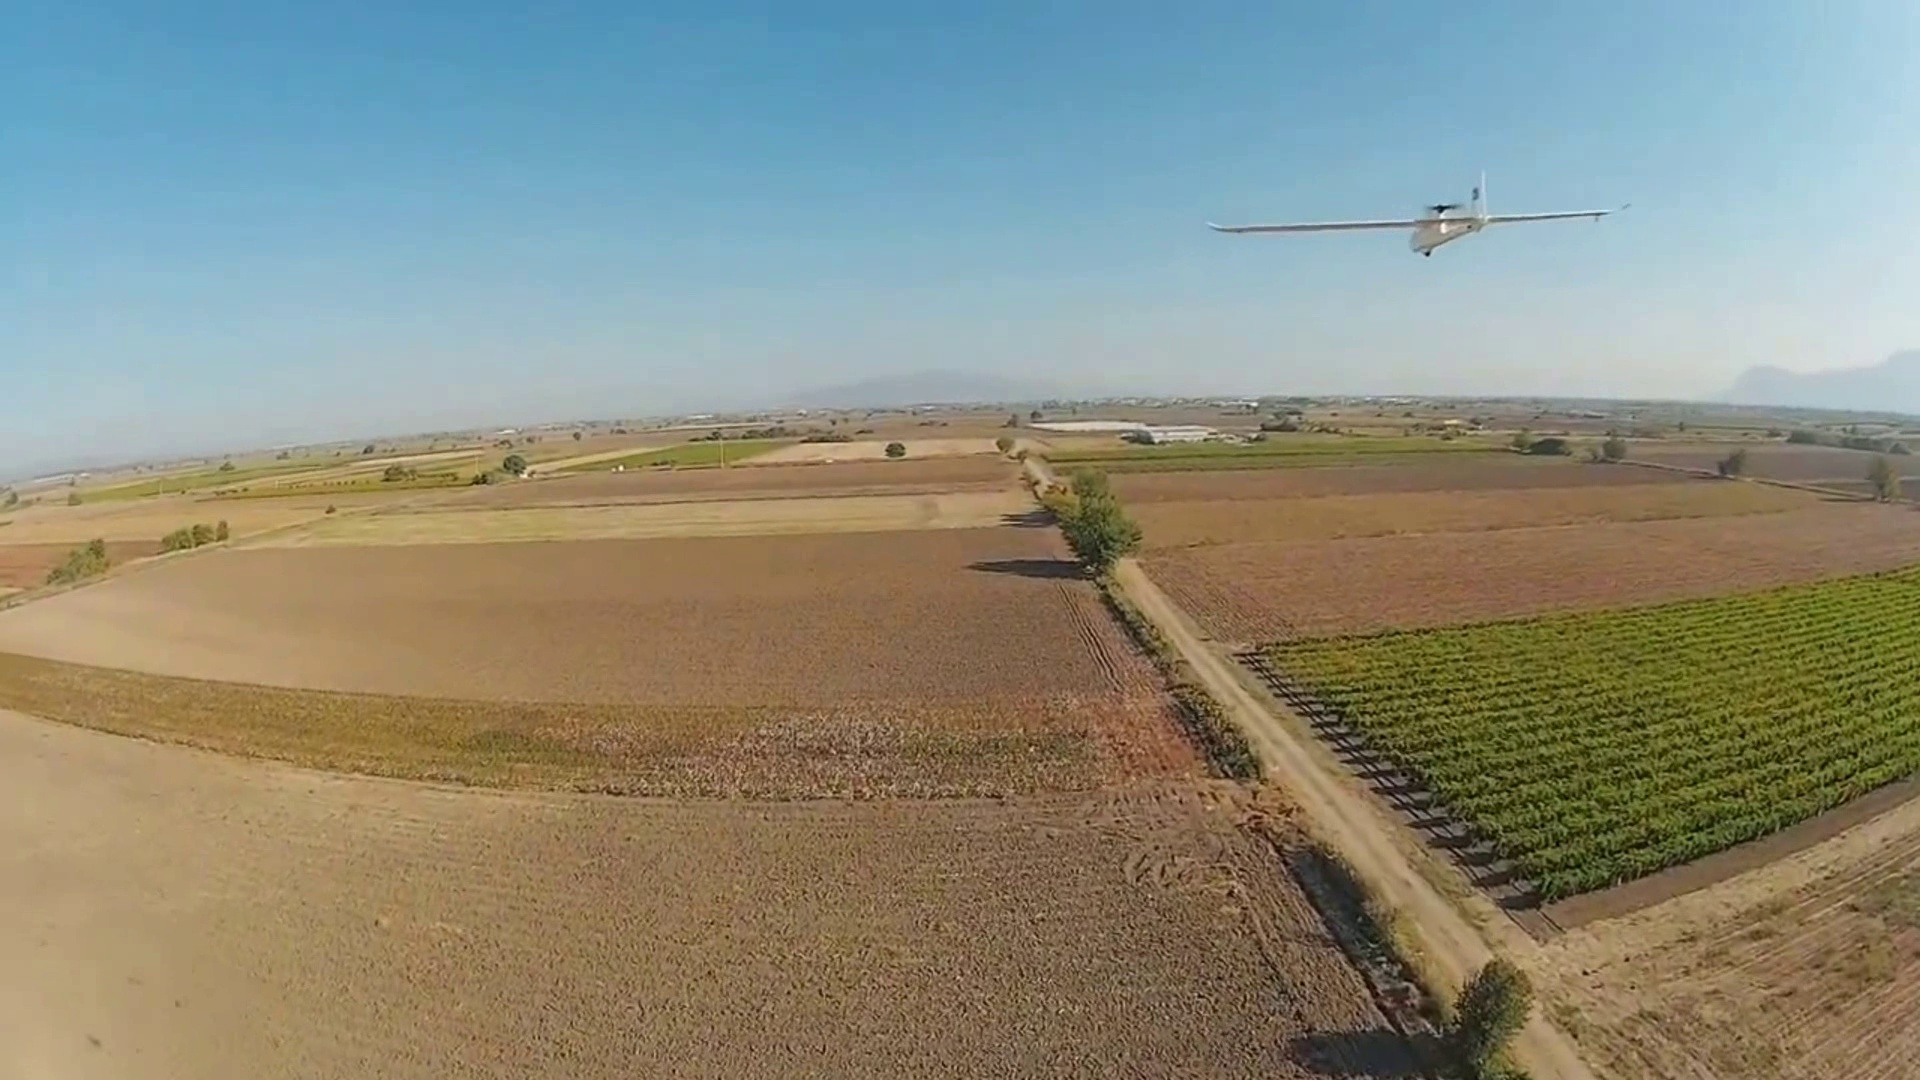airplane: (1206, 170, 1620, 258)
